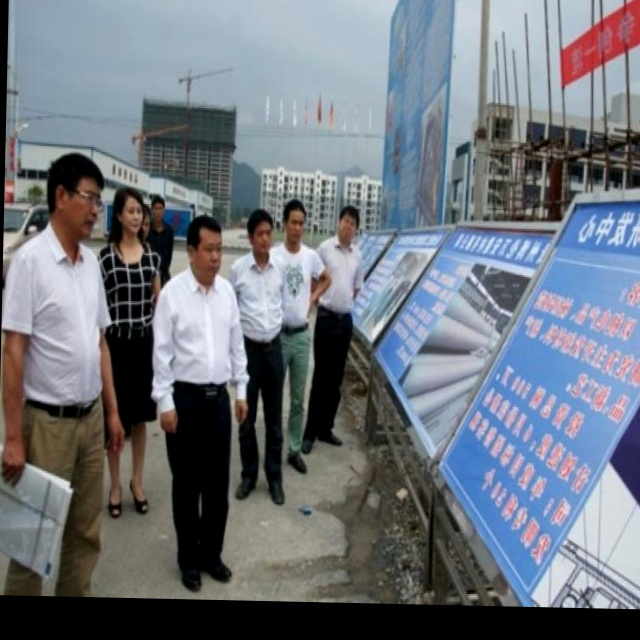Sin_Casco_Mascarrilla: (186, 219, 222, 284), (240, 211, 277, 266)
